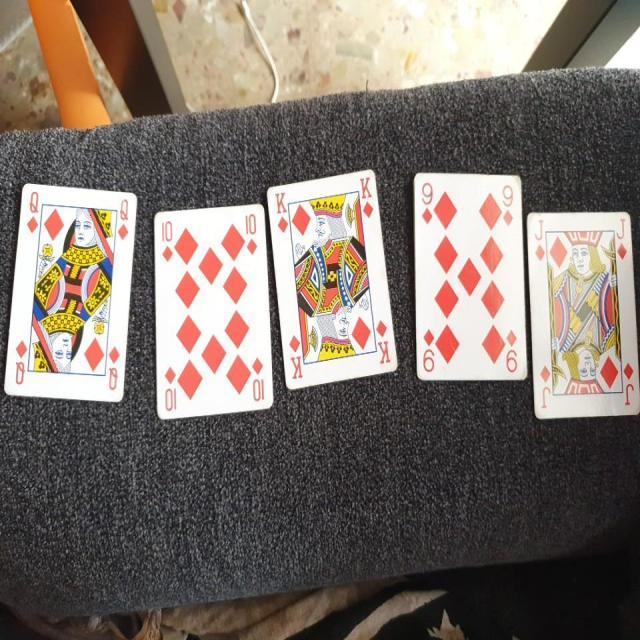10 of diamonds: (152, 203, 278, 424)
9 of diamonds: (411, 172, 526, 384)
jack of diamonds: (524, 207, 640, 424)
king of diamonds: (266, 169, 401, 392)
queen of diamonds: (0, 180, 140, 402)
